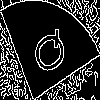Q: (25, 25, 71, 83)
